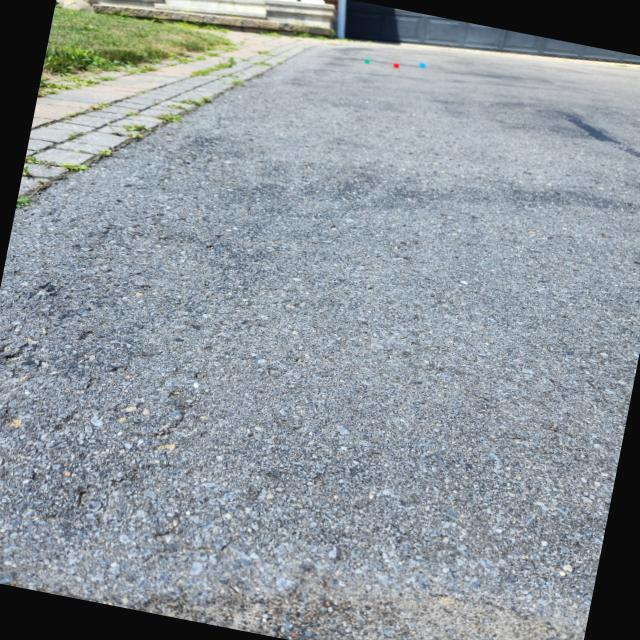bluecube: (418, 62, 425, 68)
green cube: (364, 59, 369, 63)
red cube: (393, 63, 399, 68)
